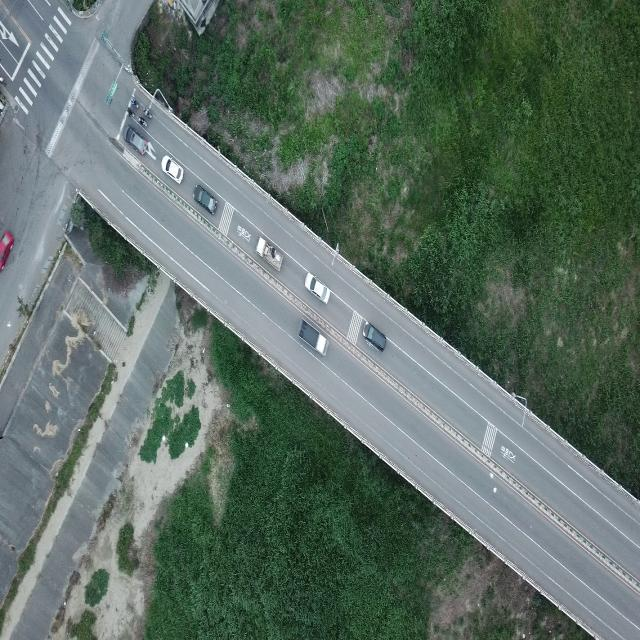vehicle: (298, 319, 329, 356), (256, 235, 283, 272), (304, 272, 330, 304), (123, 125, 148, 157), (193, 184, 217, 216), (363, 322, 386, 352), (162, 155, 184, 184), (1, 229, 14, 276), (127, 107, 135, 118), (138, 118, 147, 127), (144, 109, 152, 118), (130, 99, 138, 108)
